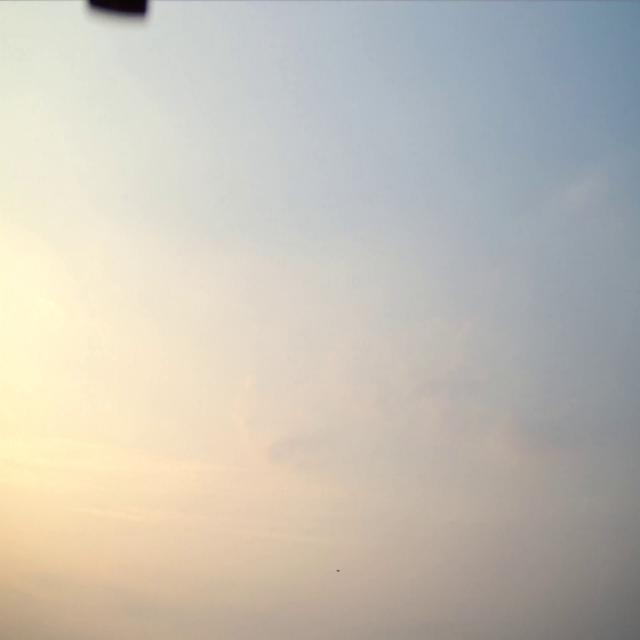drone: (336, 568, 341, 572)
